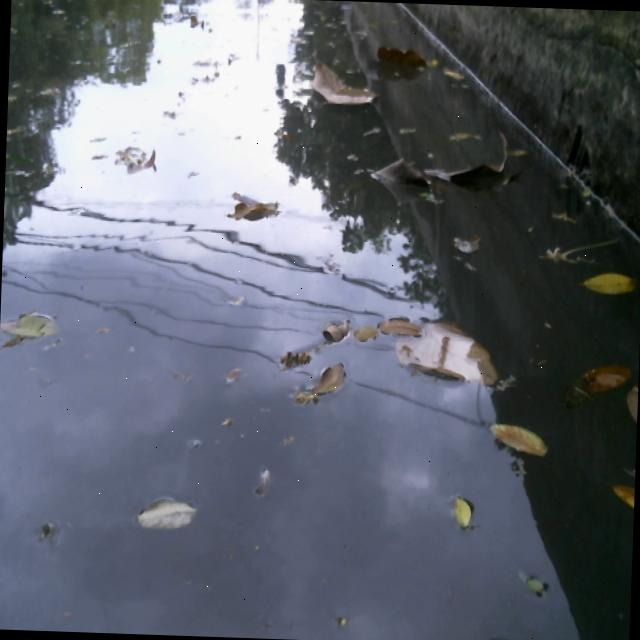Big-leaf: (391, 310, 507, 392), (424, 124, 512, 195), (307, 50, 383, 120), (377, 37, 439, 79), (372, 158, 432, 195)
Small-leaf: (559, 350, 631, 412), (127, 489, 208, 543), (0, 293, 61, 356), (542, 228, 629, 270), (485, 414, 549, 462), (576, 264, 639, 298), (229, 186, 280, 226), (513, 555, 553, 602), (301, 366, 351, 402), (115, 144, 160, 176), (314, 312, 350, 351), (377, 309, 421, 340), (609, 469, 635, 519), (450, 489, 477, 533), (352, 317, 379, 352), (221, 353, 244, 393), (280, 345, 311, 373)
